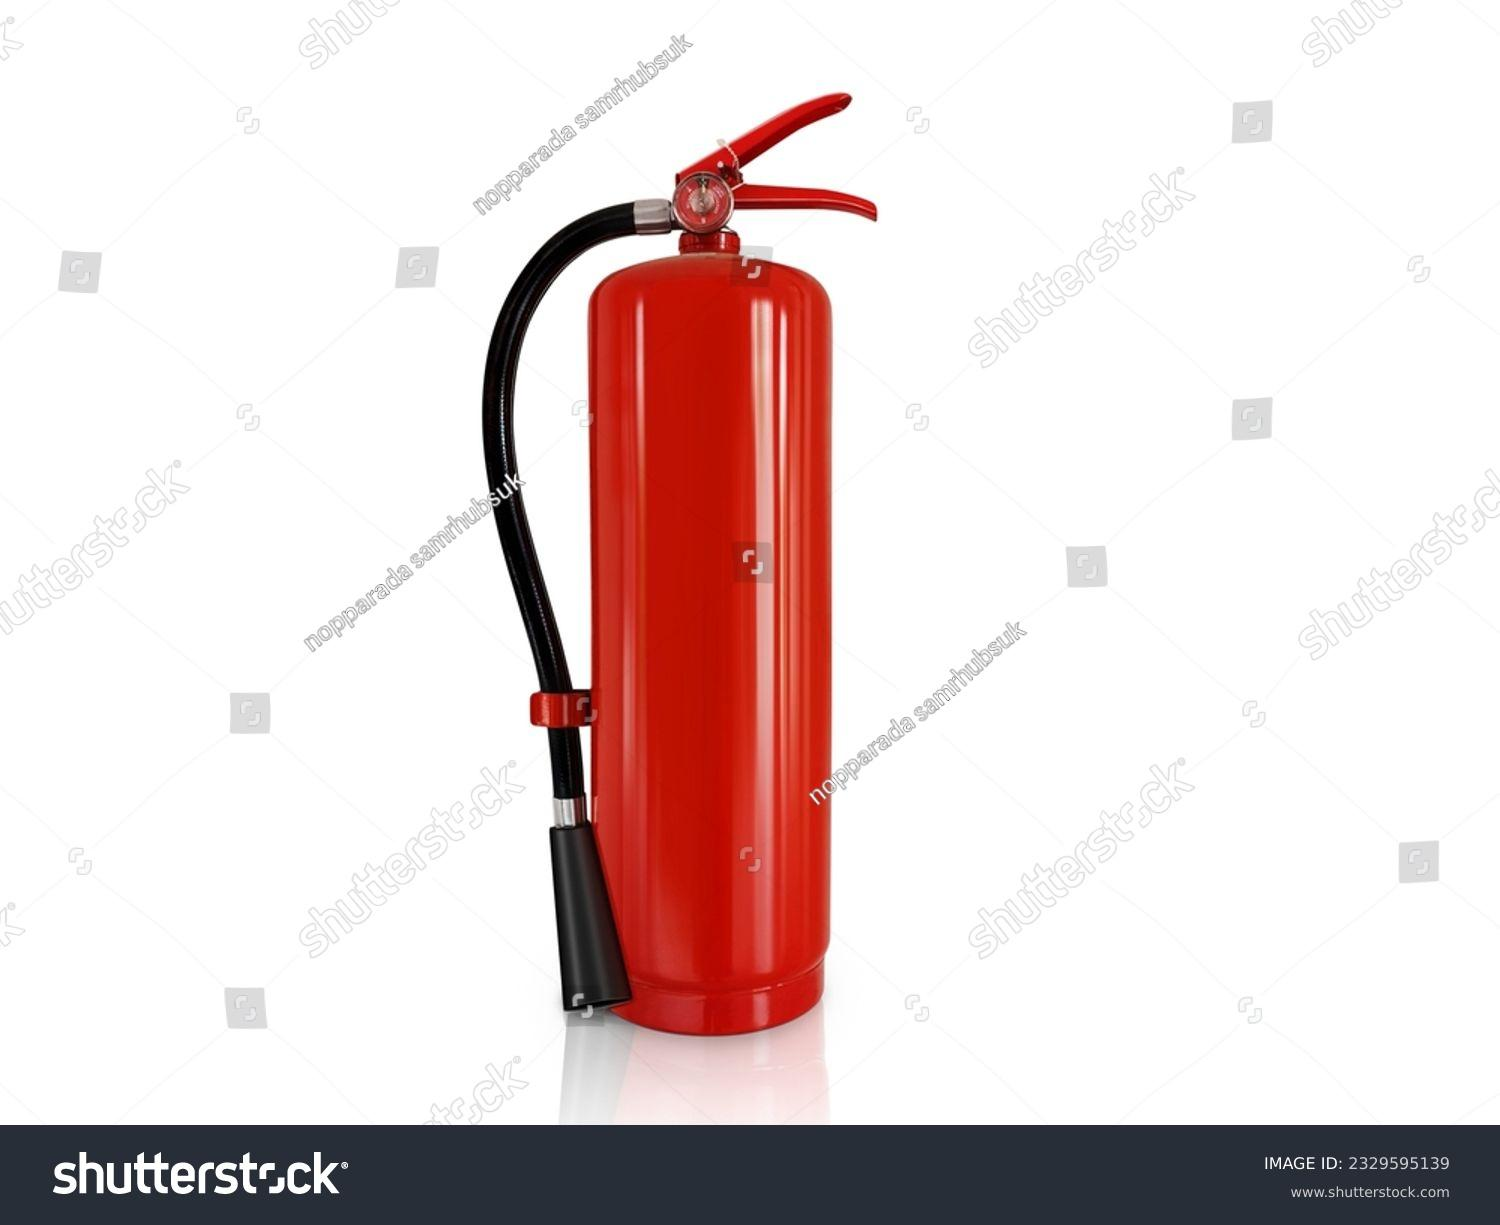floor-kept: (470, 75, 956, 1082)
